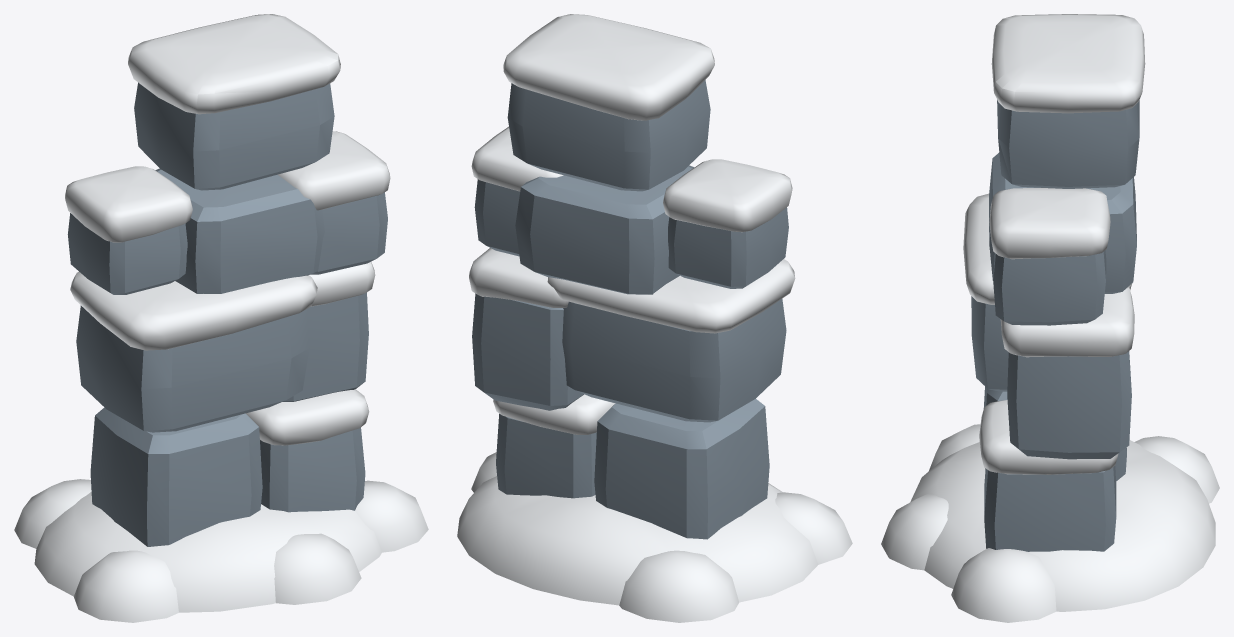
File: SnowyRockPillar.glb
3 views of the same model, side by side, from view 1: azimuth 30°, elevation 25°; view 2: azimuth 150°, elevation 25°; view 3: azimuth 270°, elevation 25° (orthographic). The views are drawn at different scales.
Visible parts, largest first — view 1: SnowyRockPillar; view 2: SnowyRockPillar; view 3: SnowyRockPillar.
Part boxes in pixels (x1=…): SnowyRockPillar: x1=14, y1=14, x2=428, y2=622; SnowyRockPillar: x1=457, y1=14, x2=852, y2=622; SnowyRockPillar: x1=881, y1=14, x2=1219, y2=622.
Bounding box in the file's own units: 6.92 × 9.13 × 5.63.
Materials: 1 (1 with a texture image).
